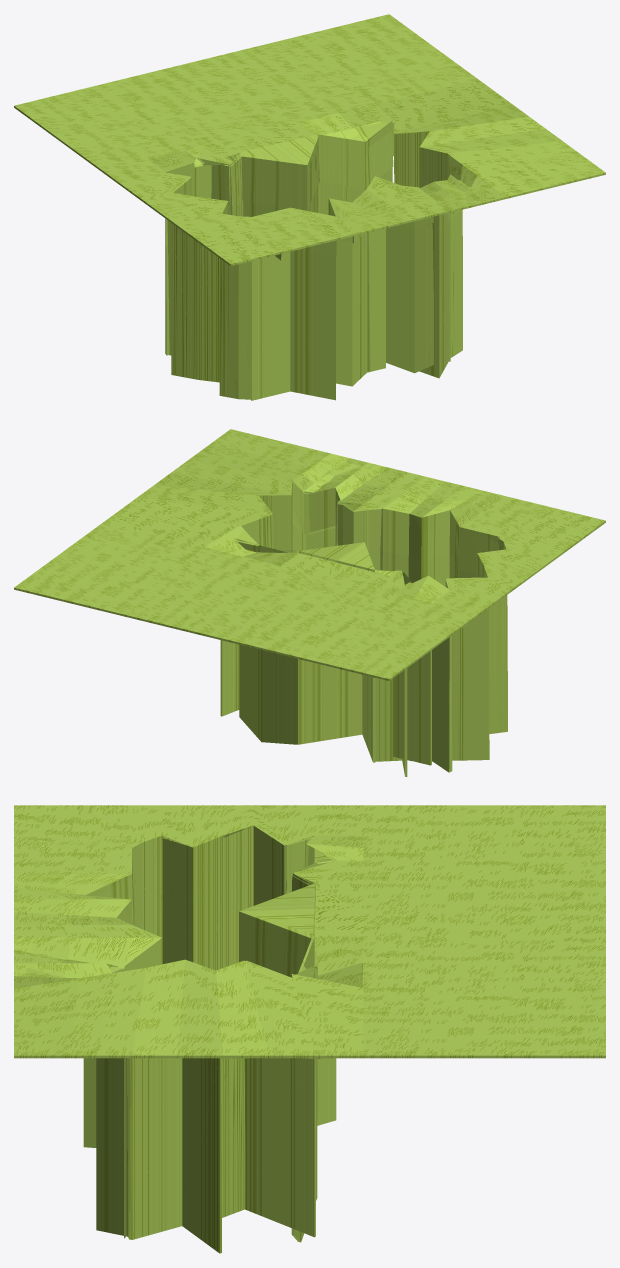
File: psio con agujerofinall porfin .fbx
3 views of the same model, one above another, from view 1: azimuth 30°, elevation 25°; view 2: azimuth 150°, elevation 25°; view 3: azimuth 270°, elevation 25° (orthographic). The views are drawn at different scales.
Visible parts, largest first — view 1: Plane; view 2: Plane; view 3: Plane.
Part boxes in pixels (x1,y1,x2,y2): Plane: [14, 14, 605, 400]; Plane: [14, 429, 605, 776]; Plane: [14, 805, 605, 1253].
Size of the model in its own units: 1375 by 754 by 1375.
1 material, 1 textured.
